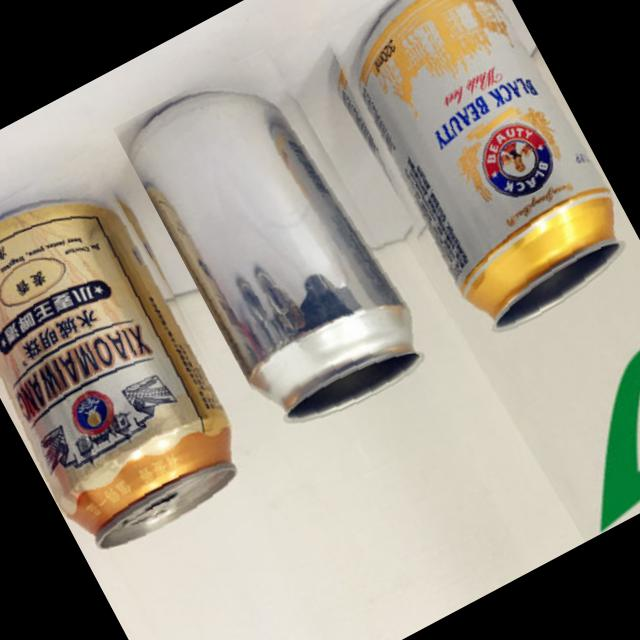Cans: (111, 37, 462, 466), (0, 141, 283, 582), (292, 0, 640, 358)
